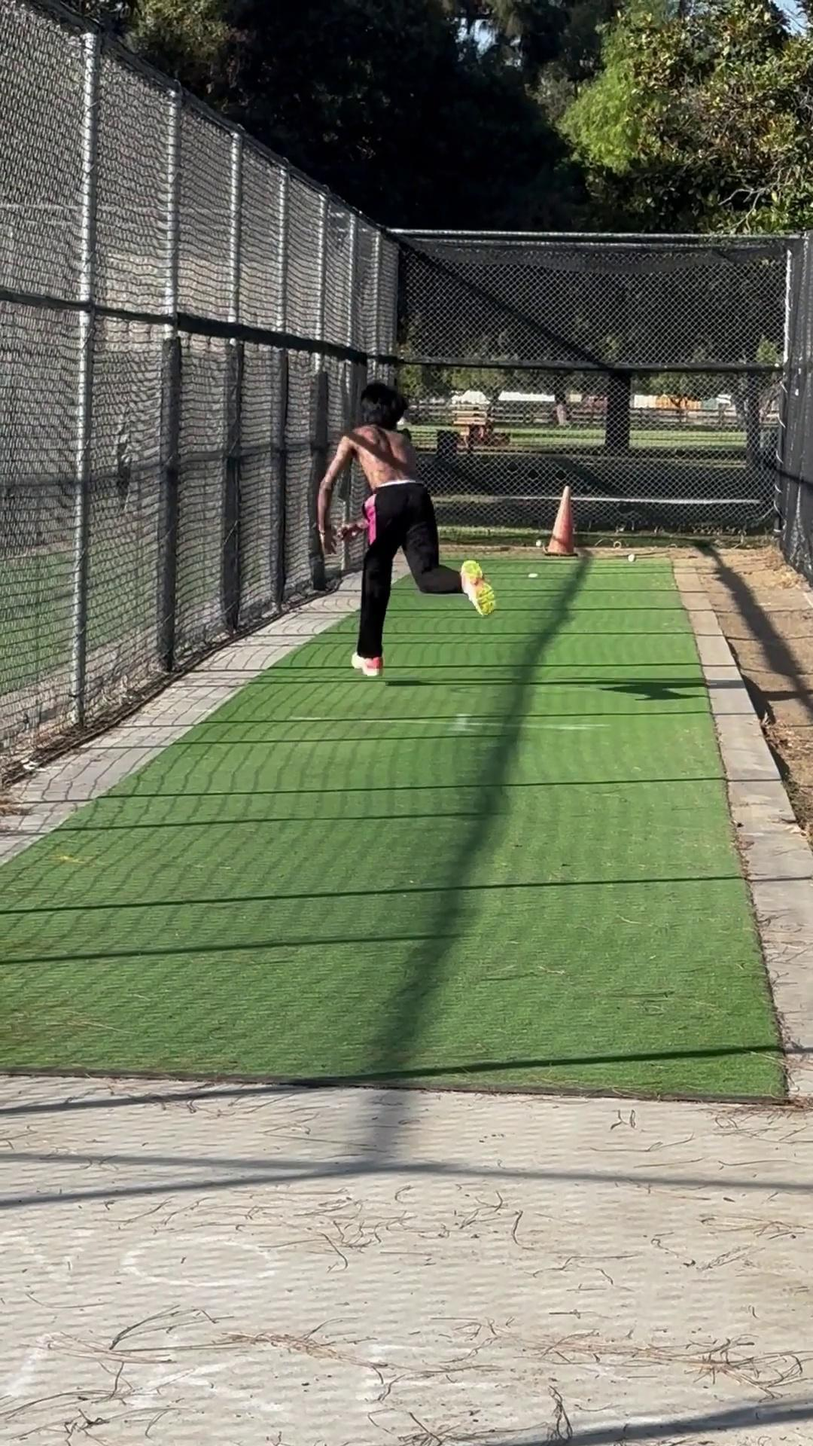ball: (533, 537, 546, 550)
